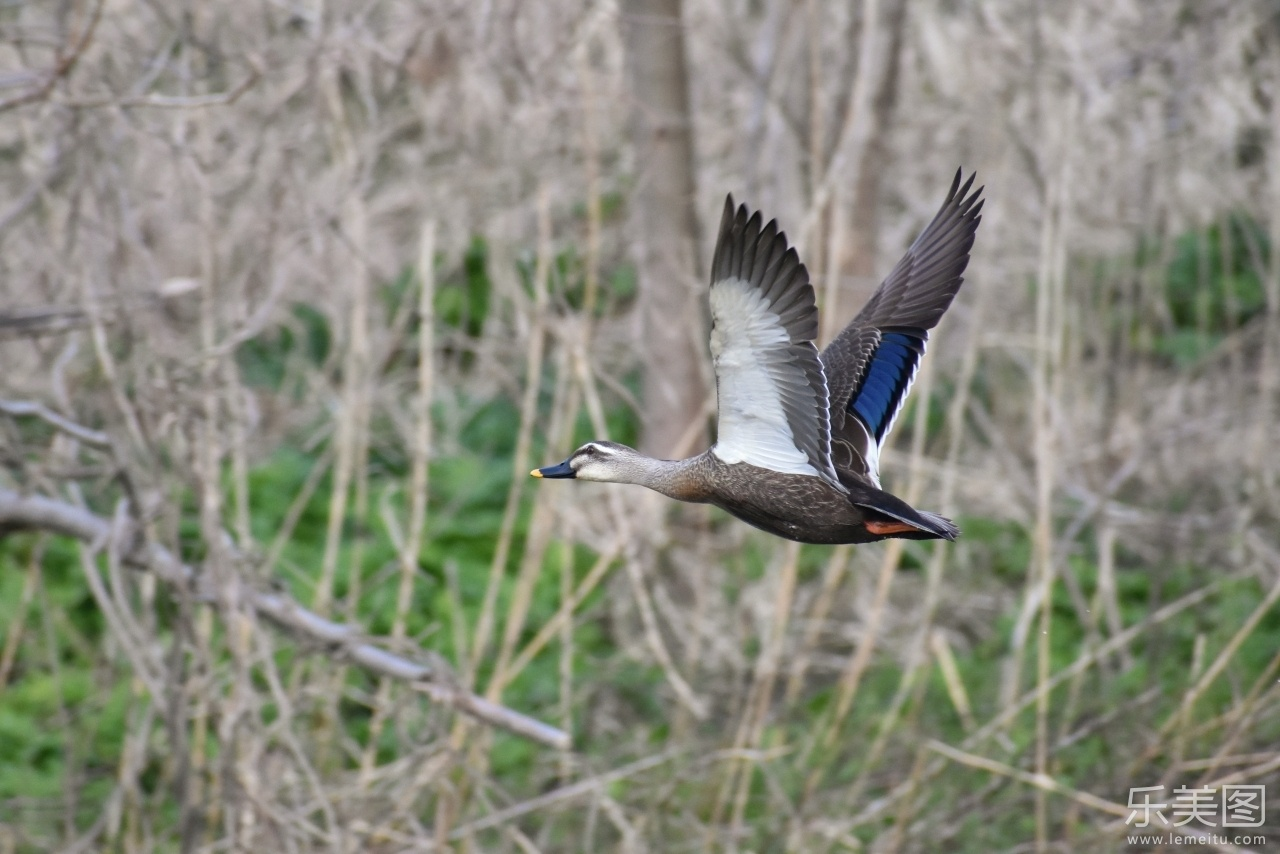bird: (513, 172, 991, 544)
